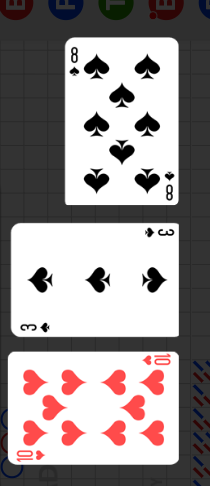10H: (15, 448, 48, 462)
8S: (163, 168, 176, 202), (68, 46, 81, 79)
